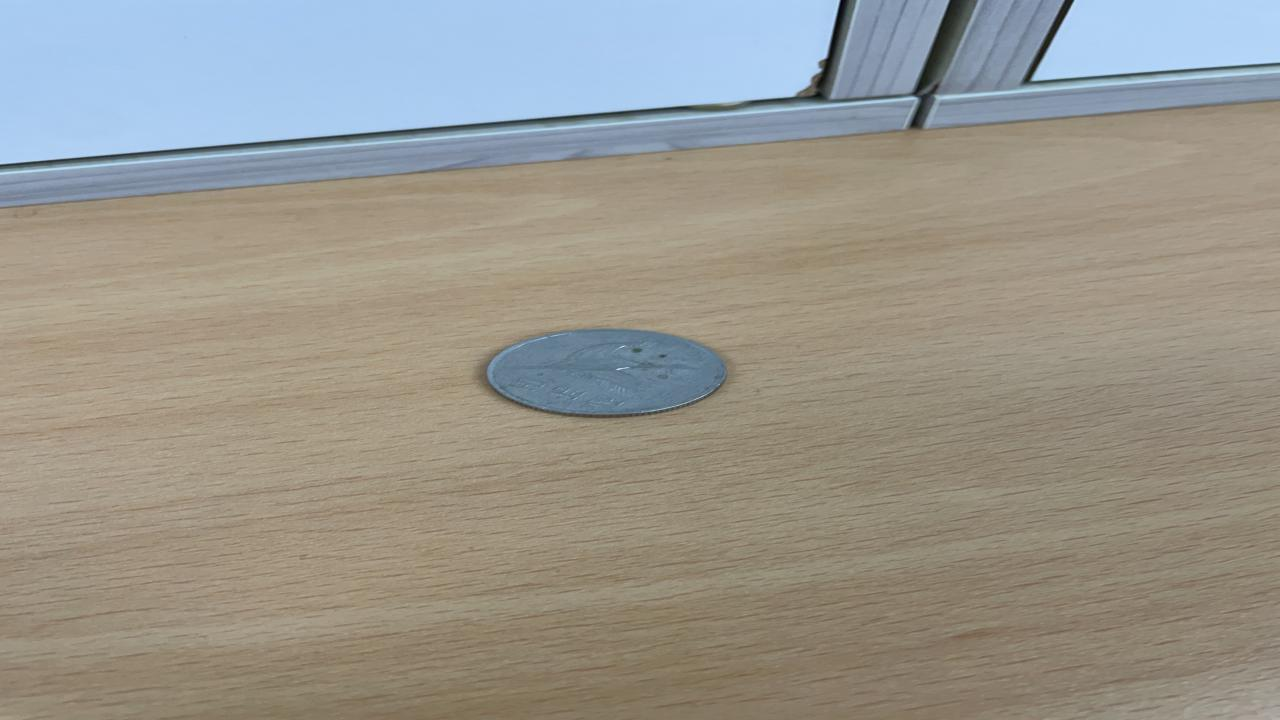coin: (481, 327, 741, 419)
